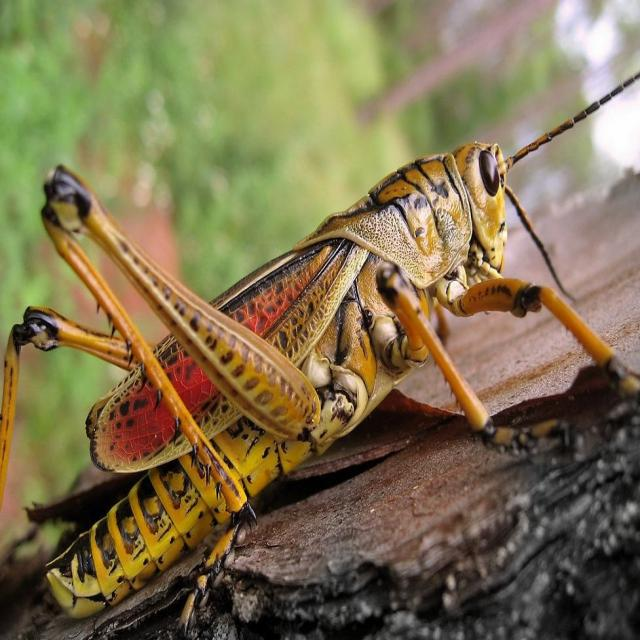ZhaMeng: (22, 130, 540, 600)
